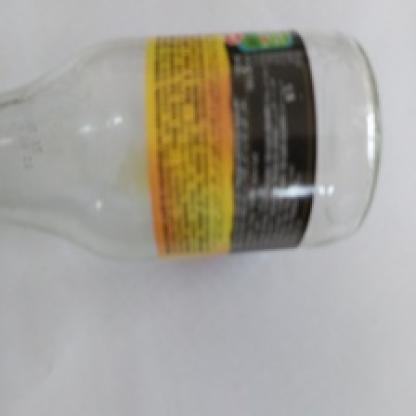Can: (0, 29, 384, 263)
